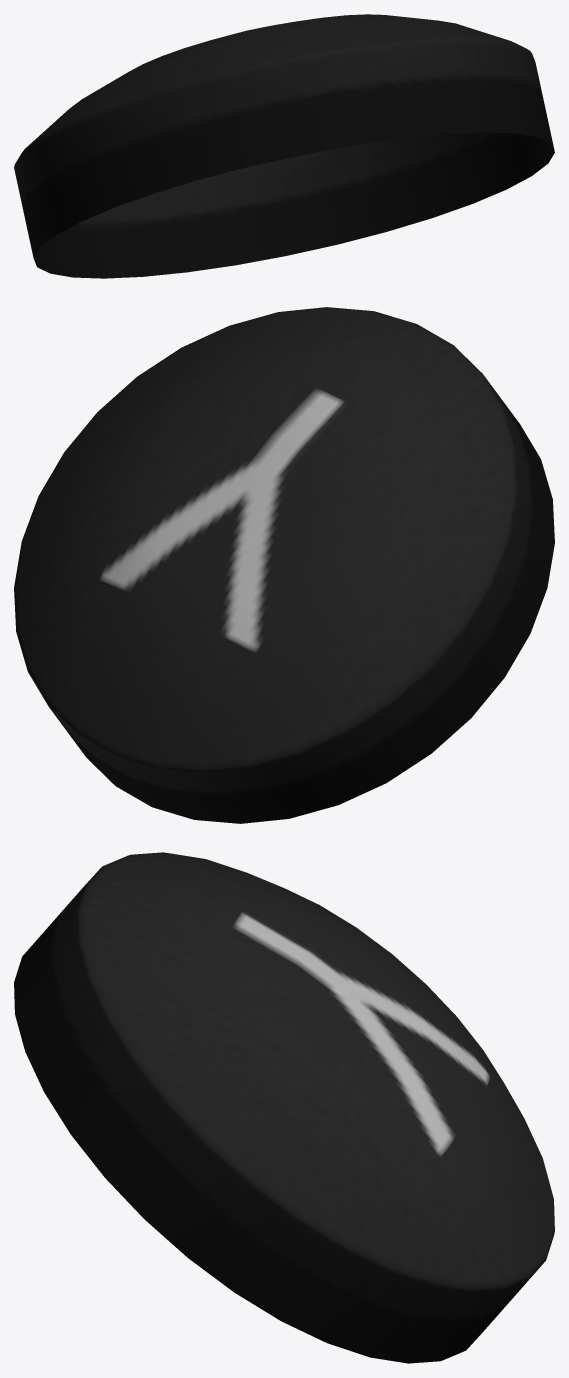
File: oculus_quest2_controller_left_button_y.obj
3 views of the same model, one above another, from view 1: azimuth 30°, elevation 25°; view 2: azimuth 150°, elevation 25°; view 3: azimuth 270°, elevation 25° (orthographic). The views are drawn at different scales.
Visible parts, largest first — view 1: oculus_quest2_controller_left_button_y; view 2: oculus_quest2_controller_left_button_y; view 3: oculus_quest2_controller_left_button_y.
Boxes of the visible parts, x1,y1,x2,y2 form: oculus_quest2_controller_left_button_y: (14, 14, 554, 278); oculus_quest2_controller_left_button_y: (14, 307, 554, 823); oculus_quest2_controller_left_button_y: (14, 852, 554, 1363).
Size of the model in its own units: 0.0101 by 0.00748 by 0.00905.
Materials: 1 (1 with a texture image).
